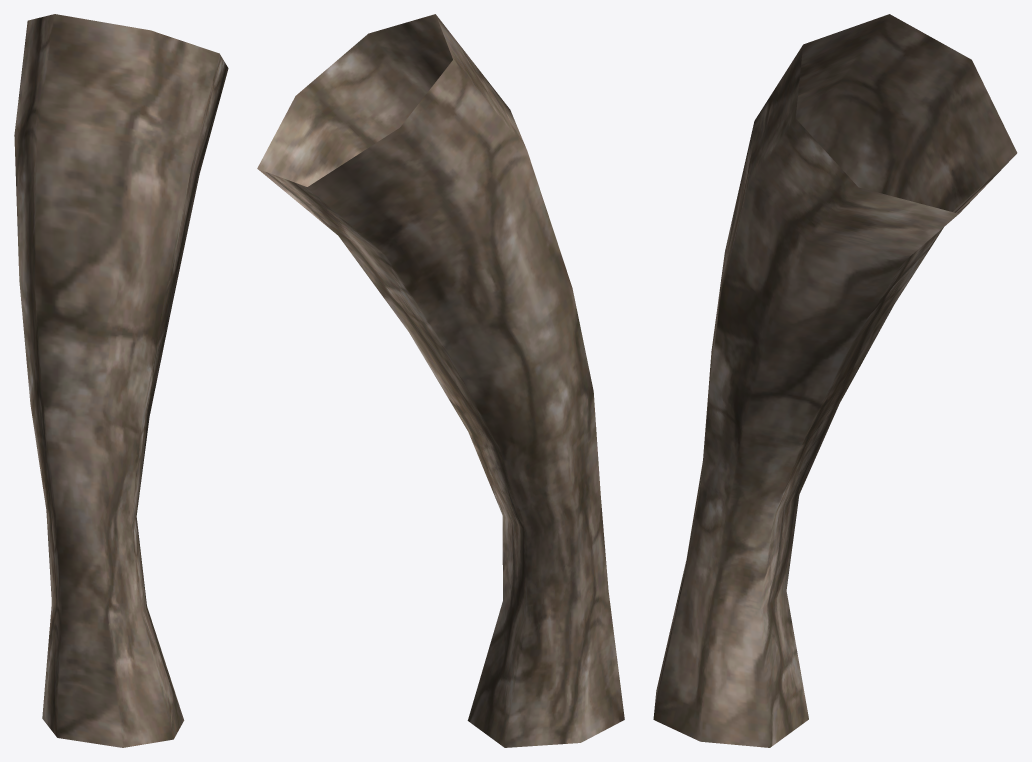
The model's file is EKH_JAIL_PS_JA_GR_CYLINDER18.fbx.
The picture shows the model from 3 angles, left to right: view 1: azimuth 30°, elevation 25°; view 2: azimuth 150°, elevation 25°; view 3: azimuth 270°, elevation 25°; orthographic projection. The views are drawn at different scales.
Visible parts, largest first — view 1: EKH_JAIL_PS_JA_GR_CYLINDER18; view 2: EKH_JAIL_PS_JA_GR_CYLINDER18; view 3: EKH_JAIL_PS_JA_GR_CYLINDER18.
Part boxes in pixels (bbox=[...]): EKH_JAIL_PS_JA_GR_CYLINDER18: bbox=[14, 14, 228, 747]; EKH_JAIL_PS_JA_GR_CYLINDER18: bbox=[257, 14, 624, 747]; EKH_JAIL_PS_JA_GR_CYLINDER18: bbox=[653, 14, 1017, 747].
Bounding box in the file's own units: 30163 × 80077 × 37110.
1 material, 1 textured.
